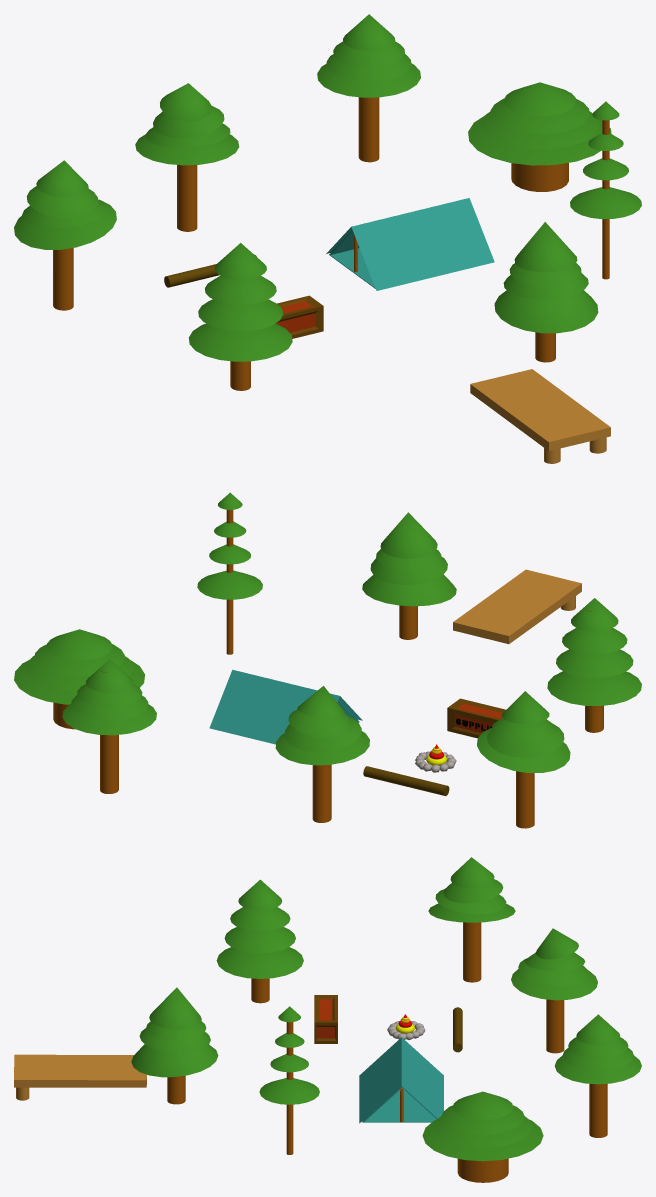
The model's file is environment.fbx.
3 renders of one model, top to bottom at view 1: azimuth 30°, elevation 25°; view 2: azimuth 150°, elevation 25°; view 3: azimuth 270°, elevation 25°, orthographic. The views are drawn at different scales.
Visible parts, largest first — view 1: tentSide1, dock, leaf13, leaf23, leaf10, leaf20, leaef12, leaef8, leaf9, leaf14, leaf16, leaf8 (+24 smaller); view 2: dock, tentSide2, leaf23, leaf13, leaef12, leaf14, leaf20, leaf8, leaf11, crate, leaf1, leaf16 (+24 smaller); view 3: dock, leaf23, tentSide1, tentSide2, leaf13, leaf10, leaef12, pCube1, leaef8, leaf9, leaf14, leaf16 (+26 smaller).
Part boxes in pixels (x1,y1,x2,y2): tentSide1: [351, 198, 494, 290]; dock: [470, 369, 610, 450]; leaf13: [494, 290, 598, 333]; leaf23: [188, 323, 292, 361]; leaf10: [468, 115, 611, 165]; leaf20: [14, 199, 116, 249]; leaef12: [198, 299, 283, 330]; leaef8: [481, 111, 598, 149]; leaf9: [490, 98, 589, 134]; leaf14: [514, 222, 577, 272]; leaf16: [135, 134, 239, 165]; leaf8: [317, 63, 420, 97]; dock: [453, 569, 581, 644]; tentSide2: [209, 669, 339, 744]; leaf23: [547, 671, 641, 705]; leaf13: [362, 574, 456, 606]; leaef12: [556, 649, 633, 678]; leaf14: [380, 512, 437, 558]; leaf20: [477, 728, 570, 772]; leaf8: [62, 704, 156, 735]; leaf11: [46, 629, 112, 660]; crate: [447, 698, 505, 738]; leaf1: [197, 570, 262, 599]; leaf16: [275, 731, 369, 765]; dock: [14, 1054, 146, 1087]; leaf23: [216, 947, 303, 978]; tentSide1: [359, 1037, 401, 1123]; tentSide2: [401, 1037, 443, 1118]; leaf13: [131, 1044, 218, 1077]; leaf10: [422, 1119, 543, 1161]; leaef12: [224, 927, 295, 953]; pCube1: [362, 1085, 437, 1122]; leaef8: [433, 1116, 532, 1147]; leaf9: [441, 1105, 524, 1134]; leaf14: [149, 987, 201, 1029]; leaf16: [511, 968, 597, 1000].
Bounding box in the file's own units: 24.16 × 7.5 × 26.71.
